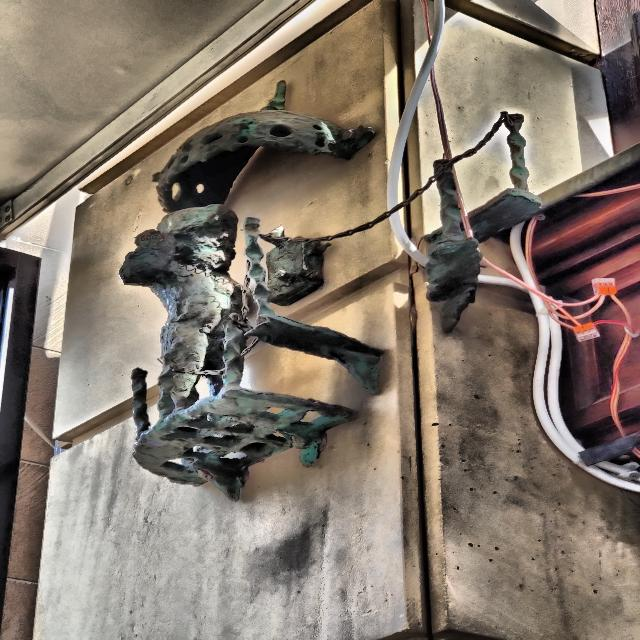Dryndek: (120, 81, 383, 500)
